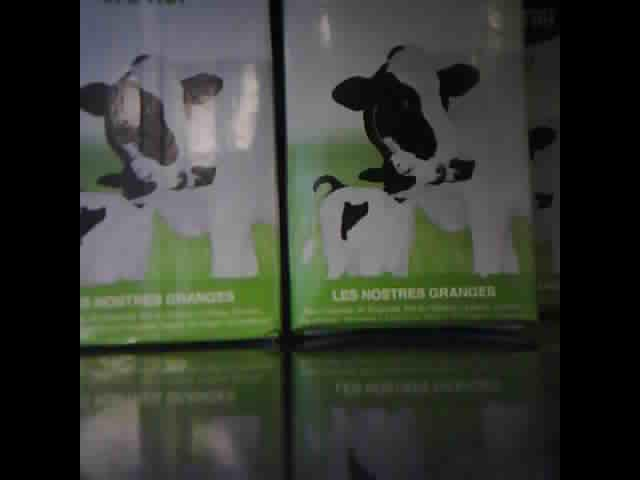leche: (291, 2, 529, 340), (82, 3, 280, 347), (523, 7, 557, 309)
